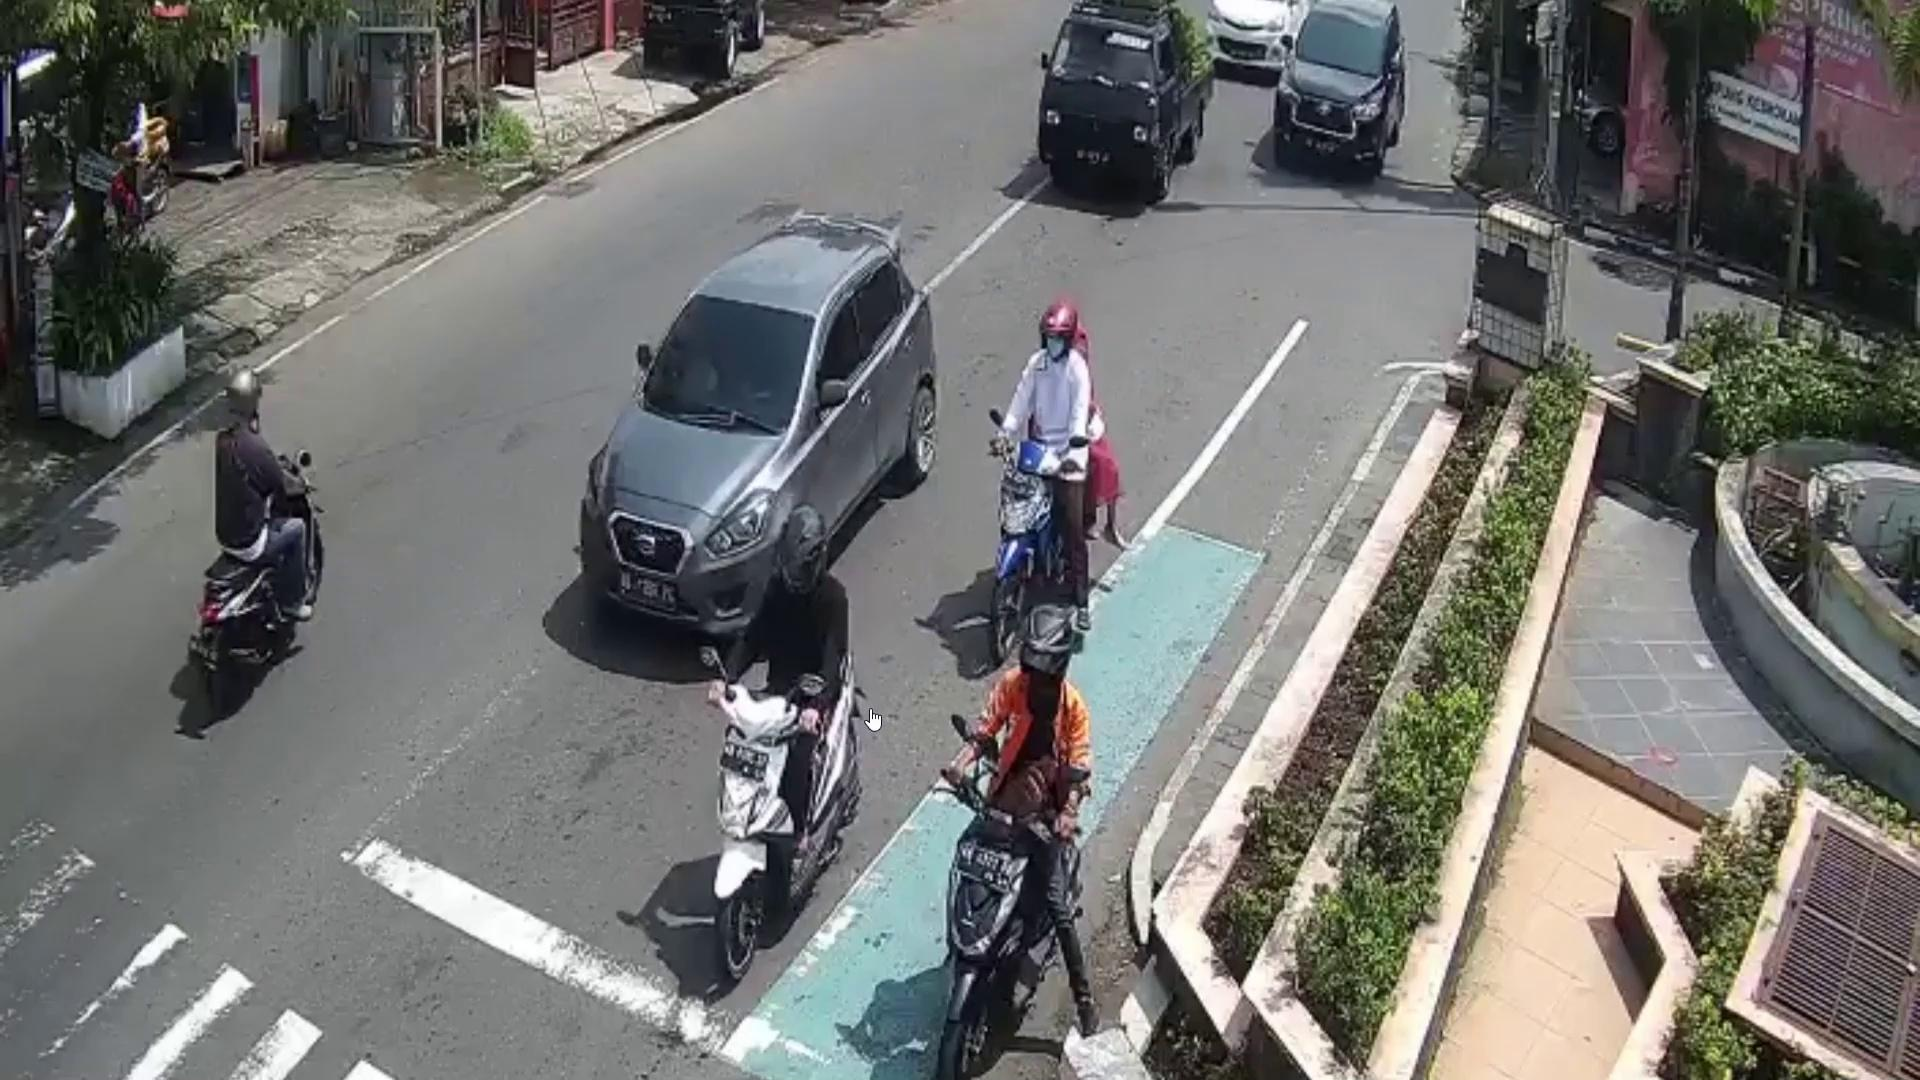car: (575, 210, 939, 651), (1035, 0, 1217, 189), (1274, 0, 1410, 194)
motorbike: (703, 650, 866, 975), (939, 773, 1080, 1080), (199, 447, 320, 712), (996, 423, 1081, 655)
